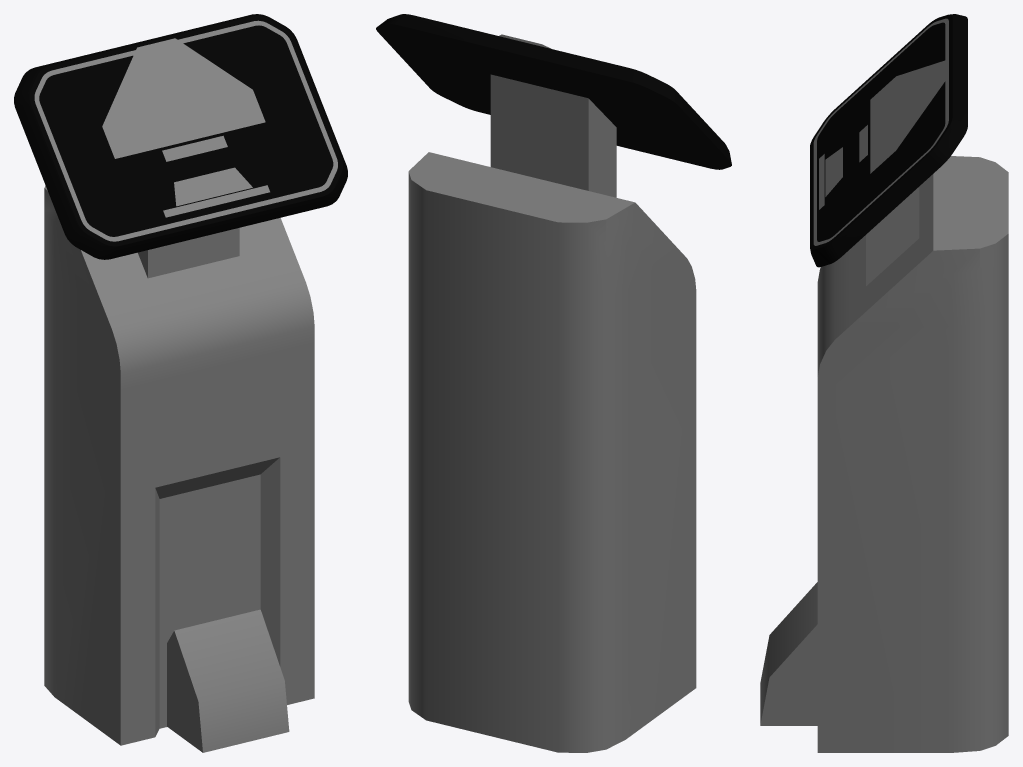
File: q-scifi-mod-prop-computer.glb
3 views of the same model, side by side, from view 1: azimuth 30°, elevation 25°; view 2: azimuth 150°, elevation 25°; view 3: azimuth 270°, elevation 25° (orthographic). The views are drawn at different scales.
Parts seen in each view (by area): view 1: Prop_Computer; view 2: Prop_Computer; view 3: Prop_Computer.
Boxes of the visible parts, x1,y1,x2,y2 form: Prop_Computer: (14, 14, 347, 752); Prop_Computer: (376, 14, 731, 752); Prop_Computer: (760, 14, 1008, 752).
Bounding box in the file's own units: 0.7434 × 1.59 × 0.5625.
Materials: 3 (2 with a texture image).
